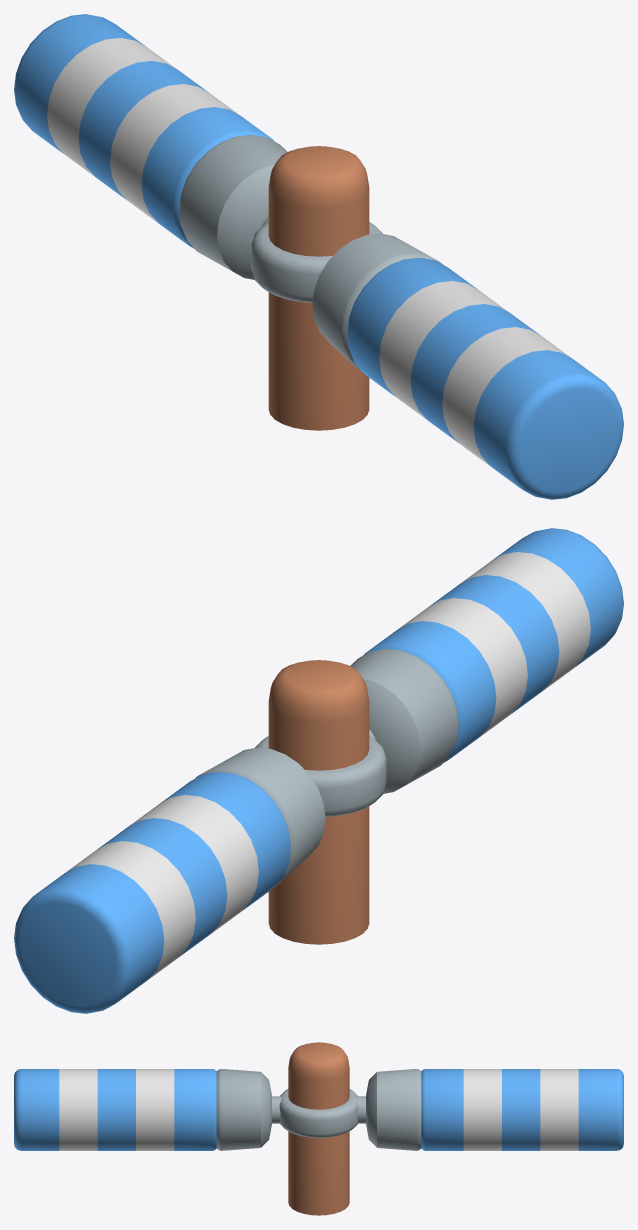
File: swiperDouble_teamBlue-col.glb
3 renders of one model, top to bottom at view 1: azimuth 30°, elevation 25°; view 2: azimuth 150°, elevation 25°; view 3: azimuth 270°, elevation 25°, orthographic. The views are drawn at different scales.
Parts seen in each view (by area): view 1: swiperDouble_teamBlue-col; view 2: swiperDouble_teamBlue-col; view 3: swiperDouble_teamBlue-col.
Boxes of the visible parts, x1,y1,x2,y2 form: swiperDouble_teamBlue-col: (14, 14, 623, 499); swiperDouble_teamBlue-col: (14, 528, 623, 1013); swiperDouble_teamBlue-col: (14, 1042, 623, 1215).
Size of the model in its own units: 0.8059 by 1.63 by 5.96.
